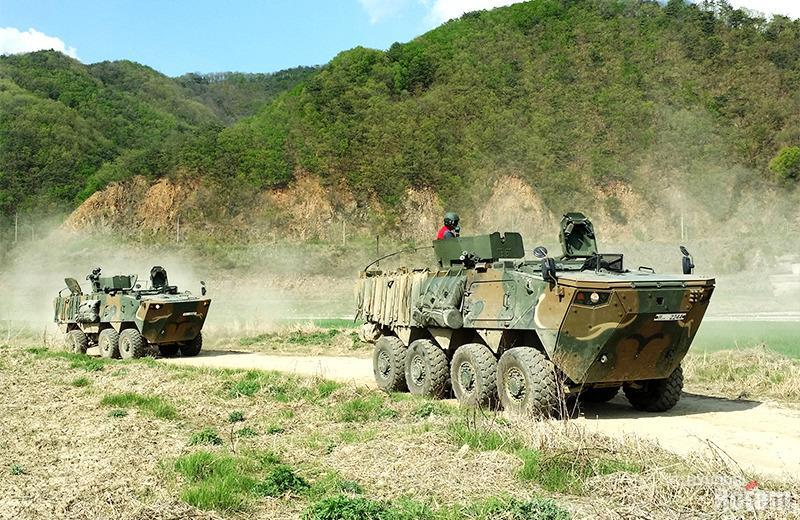MIL_IFV: (359, 207, 709, 424), (57, 260, 210, 363)
